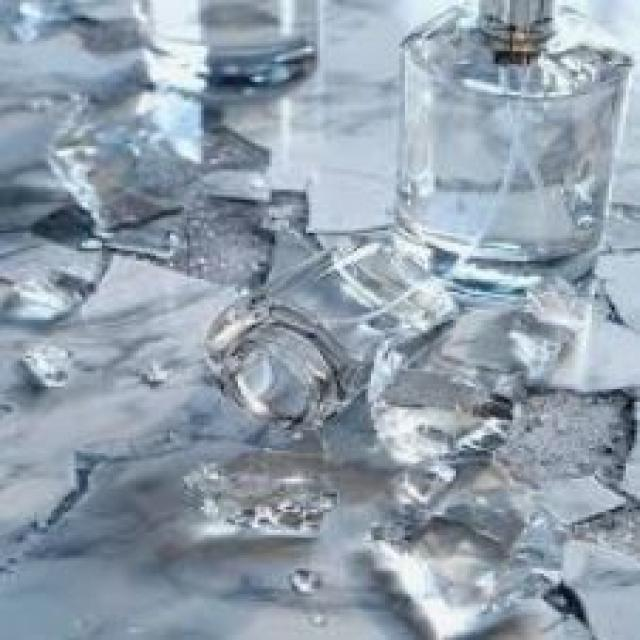electronic: (385, 1, 632, 296), (203, 236, 461, 438)
